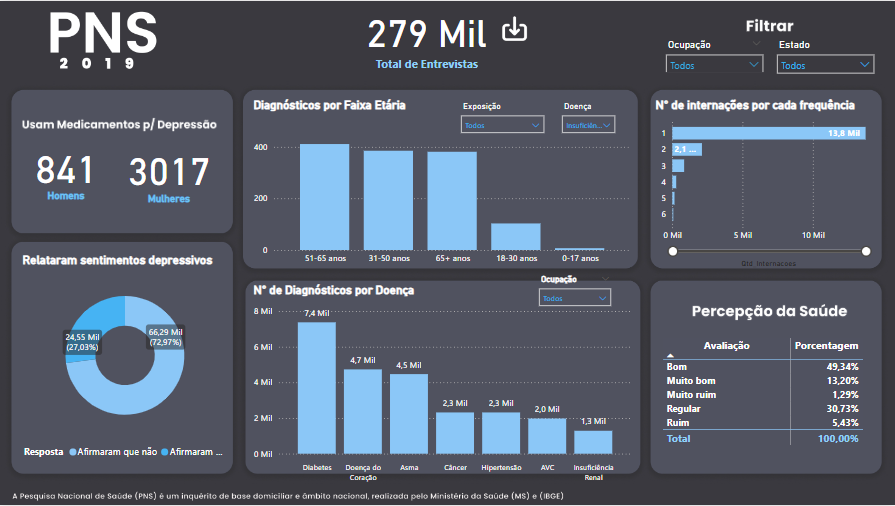

What the dashboard file says about the page in this screenshot:
{"tool":"powerbi","page":{"name":"Página 1","canvas":[1280,720],"ordinal":0},"visuals":[{"type":"slicer","title":"Filtrar por Estado","fields":{"Values":["Tabela_Auxiliar.uf"]},"box":[1101.4,48.6,158.6,67.1],"z":0},{"type":"clusteredColumnChart","title":"N° de Diagnósticos por Doença","fields":{"Category":["Tabela_Diagnosticos.Doenca"],"Y":["Sum(Tabela_Diagnosticos.Qtd_Diagnosticos)"]},"box":[358.6,402.9,550,292.9],"z":1000},{"type":"card","fields":{"Values":["PNS_trabalhoXSaude.Total de Entrevistas"]},"box":[460.2,0,302.1,101.6],"z":2000},{"type":"clusteredColumnChart","title":"Diagnósticos por Faixa Etária","fields":{"Category":["Tabela_Auxiliar_Idade.FaixaEtaria"],"Y":["PNS_trabalhoXSaude.Qtd_Diagnostico"]},"box":[358.6,138.6,550,247.1],"z":3000},{"type":"slicer","fields":{"Values":["Tabela_Doencas.Doenca"]},"box":[794.3,138.6,95.7,52.9],"z":4000},{"type":"clusteredBarChart","title":"N° de Internações por Frequência","fields":{"Category":["PNS_trabalhoXSaude.num_internacoes"],"Y":["PNS_trabalhoXSaude.Qtd_Internacoes_0a15"]},"box":[932.9,138.6,327.1,247.1],"z":5000},{"type":"slicer","fields":{"Values":["PNS_trabalhoXSaude.Ocupacao"]},"box":[942.9,48.6,158.6,52.9],"z":6000},{"type":"tableEx","fields":{"Values":["PNS_trabalhoXSaude.estado_saude_geral","PNS_trabalhoXSaude.PorcentagemEstadoSaudeRespondentes"]},"box":[942.9,475.7,304.3,201.4],"z":7000},{"type":"slicer","fields":{"Values":["Tabela_Exposicao.Tipo_Exposicao"]},"box":[650,138.6,138.6,52.9],"z":8000},{"type":"donutChart","title":"Relataram Sentimentos Depressivos","fields":{"Category":["PNS_trabalhoXSaude.Deprimido"],"Y":["CountNonNull(PNS_trabalhoXSaude.Deprimido)"]},"box":[28.6,360,302.9,302.9],"z":9000},{"type":"card","fields":{"Values":["PNS_trabalhoXSaude.Qtd_Homens_Usa_Medicamento"]},"box":[28.6,191.4,134.3,100],"z":10000},{"type":"card","fields":{"Values":["PNS_trabalhoXSaude.Qtd_Mulheres_Usa_Medicamento"]},"box":[172.9,191.4,140,107.1],"z":11000},{"type":"slicer","fields":{"Values":["Tabela_Diagnosticos.Ocupacao"]},"box":[761.4,385.7,122.9,58.6],"z":12000},{"type":"image","box":[1062.9,8.6,77.1,51.4],"z":13000},{"type":"image","box":[985.7,412.9,231.4,62.9],"z":15000},{"type":"image","box":[28.6,150,287.1,52.9],"z":16000}]}

Visuals, with their boxes in screenshot pixels (x1, y1, x2, y2), scaled from the page's 1280x720 canvas onto the 895x506 screenshot:
"Filtrar por Estado" slicer: (770, 34, 881, 81)
"N° de Diagnósticos por Doença" clusteredColumnChart: (251, 283, 635, 489)
card - PNS_trabalhoXSaude.Total de Entrevistas: (322, 0, 533, 71)
"Diagnósticos por Faixa Etária" clusteredColumnChart: (251, 97, 635, 271)
slicer - Tabela_Doencas.Doenca: (555, 97, 622, 135)
"N° de Internações por Frequência" clusteredBarChart: (652, 97, 881, 271)
slicer - PNS_trabalhoXSaude.Ocupacao: (659, 34, 770, 71)
tableEx - PNS_trabalhoXSaude.estado_saude_geral x PNS_trabalhoXSaude.PorcentagemEstadoSaudeRespondentes: (659, 334, 872, 476)
slicer - Tabela_Exposicao.Tipo_Exposicao: (454, 97, 551, 135)
"Relataram Sentimentos Depressivos" donutChart: (20, 253, 232, 466)
card - PNS_trabalhoXSaude.Qtd_Homens_Usa_Medicamento: (20, 135, 114, 205)
card - PNS_trabalhoXSaude.Qtd_Mulheres_Usa_Medicamento: (121, 135, 219, 210)
slicer - Tabela_Diagnosticos.Ocupacao: (532, 271, 618, 312)
image: (743, 6, 797, 42)
image: (689, 290, 851, 334)
image: (20, 105, 221, 143)
